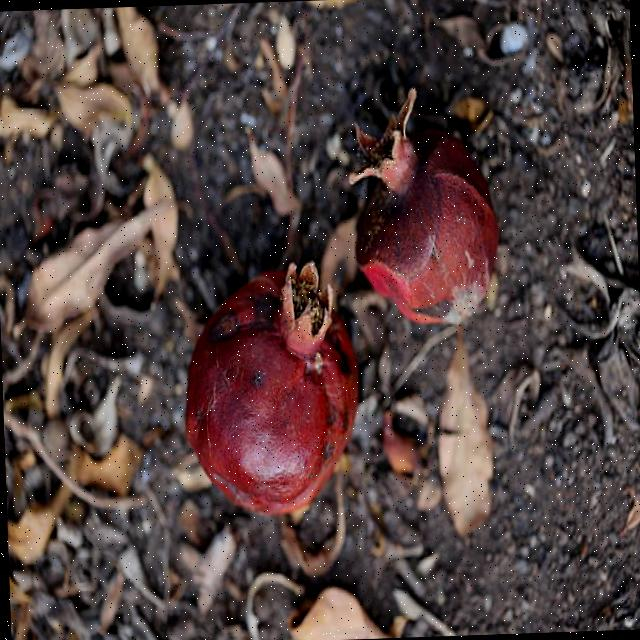Rotten: (181, 257, 364, 524)
